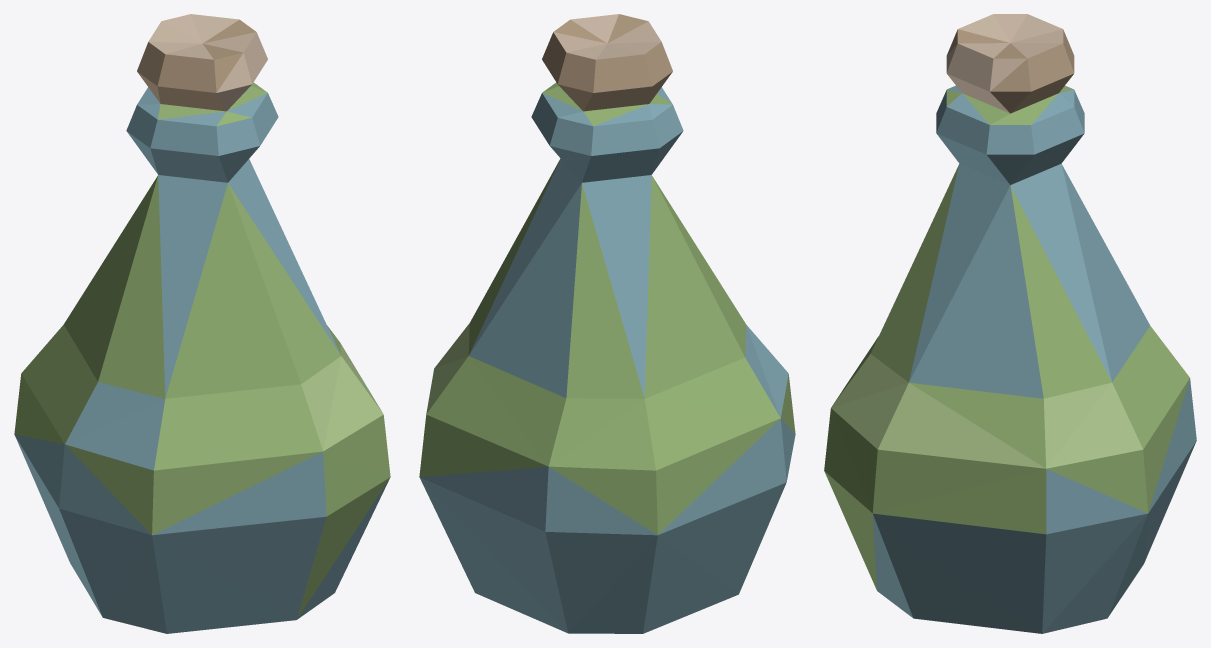
The picture shows the model from 3 angles, left to right: view 1: azimuth 30°, elevation 25°; view 2: azimuth 150°, elevation 25°; view 3: azimuth 270°, elevation 25°; orthographic projection.
Visible parts, largest first — view 1: model; view 2: model; view 3: model.
Part boxes in pixels (box(x1,y1,x2,y2)): model: box(14, 14, 390, 633); model: box(419, 14, 795, 633); model: box(824, 14, 1196, 633).
Bounding box in the file's own units: 0.3869 × 0.62 × 0.3869.
